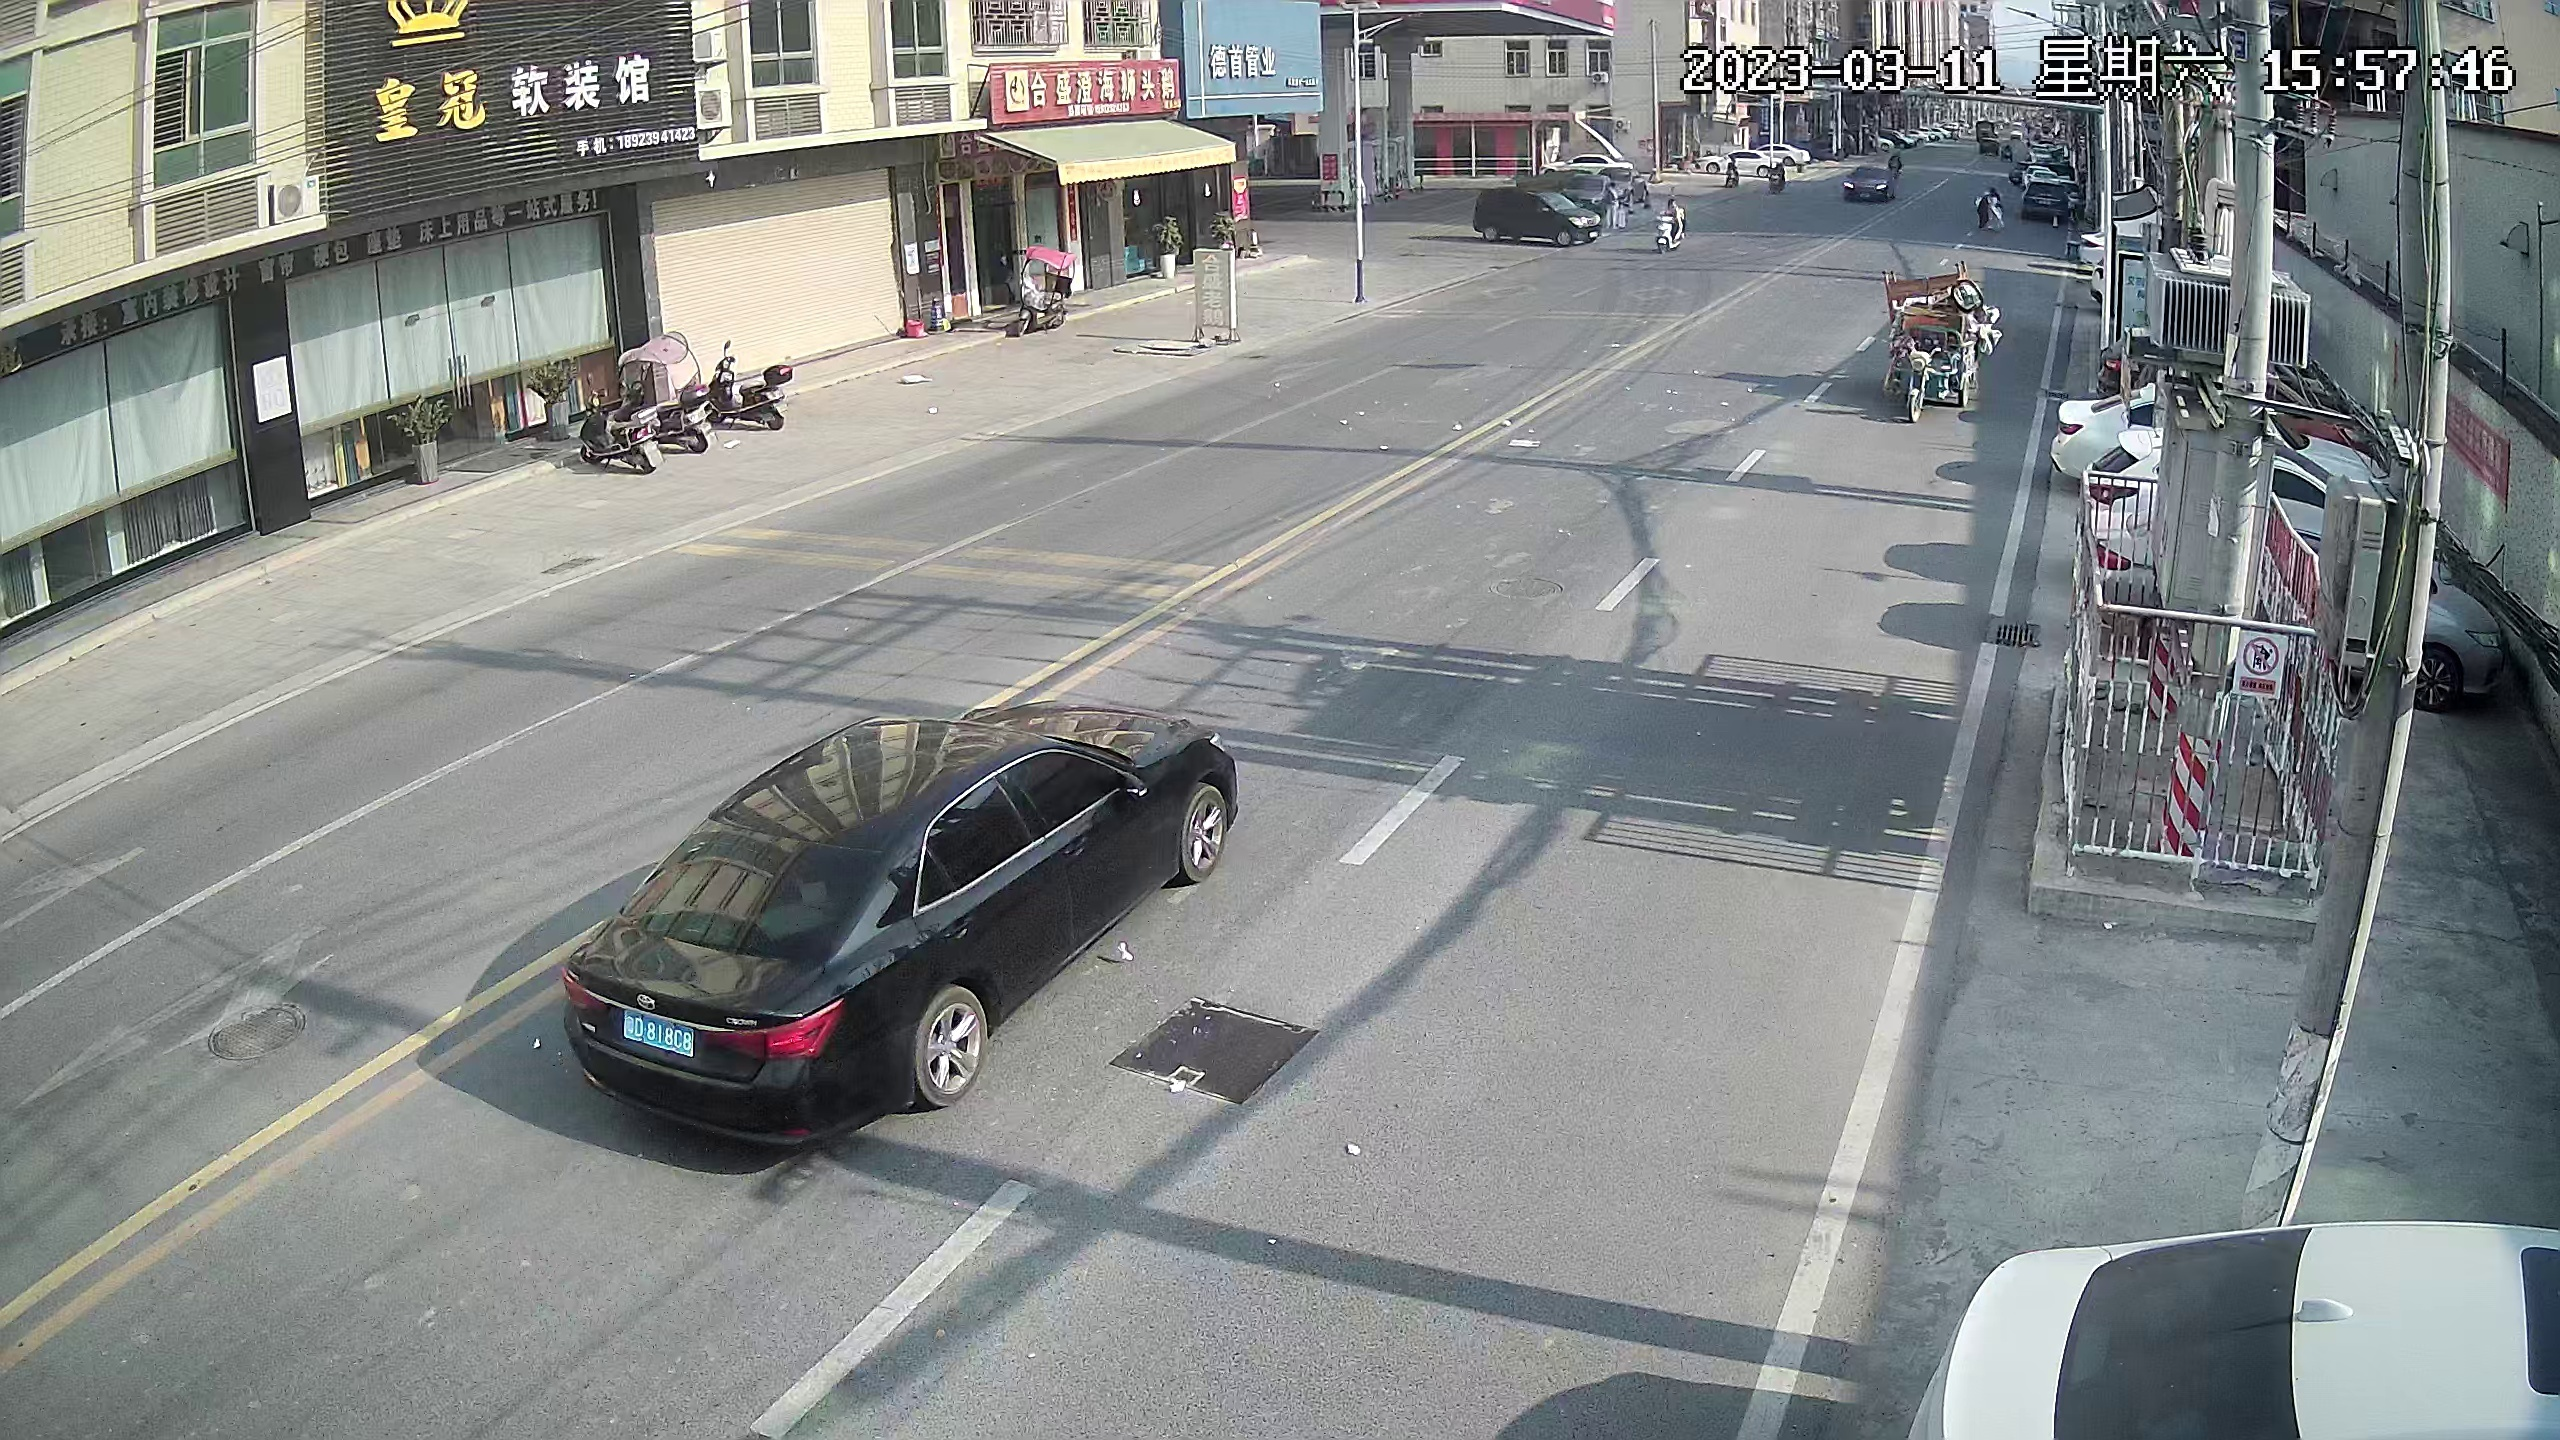motorcycle: (635, 343, 703, 457), (573, 392, 656, 475), (710, 352, 791, 427), (1020, 248, 1073, 339), (1653, 197, 1690, 258), (1976, 188, 2003, 234)
sedan: (573, 693, 1218, 1139), (1915, 1208, 2558, 1440), (2105, 529, 2505, 714), (2099, 440, 2365, 515), (2064, 385, 2324, 457), (1843, 169, 1894, 209), (1713, 144, 1769, 179), (2027, 176, 2068, 220)
suv: (1482, 188, 1595, 253)
tricycle: (1878, 264, 1992, 427)
